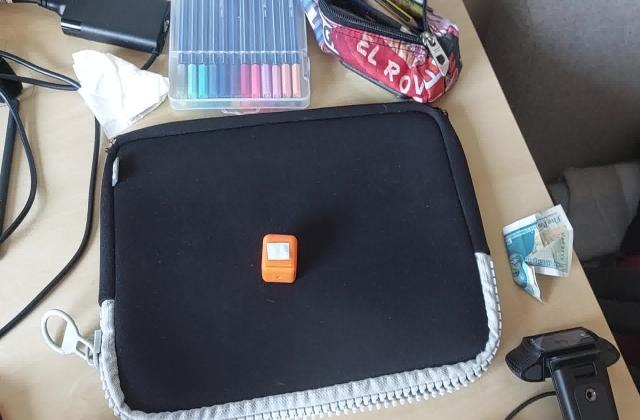sticker: (260, 234, 299, 286)
white: (264, 241, 293, 262)
